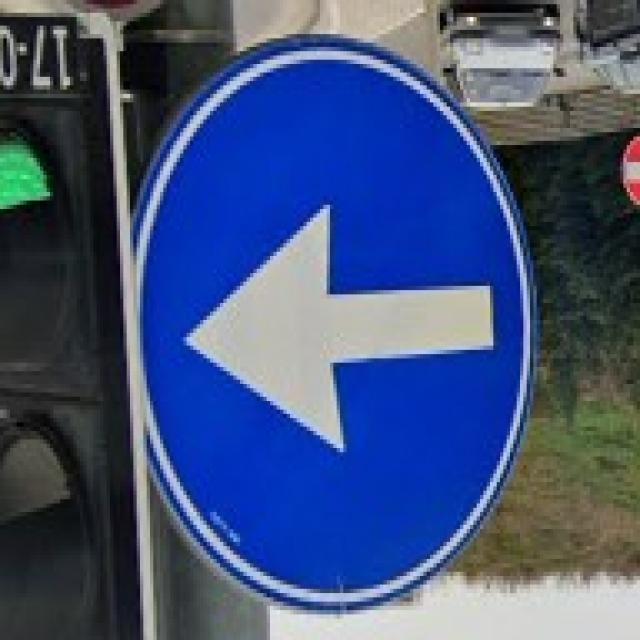Turn Left: (126, 48, 523, 603)
